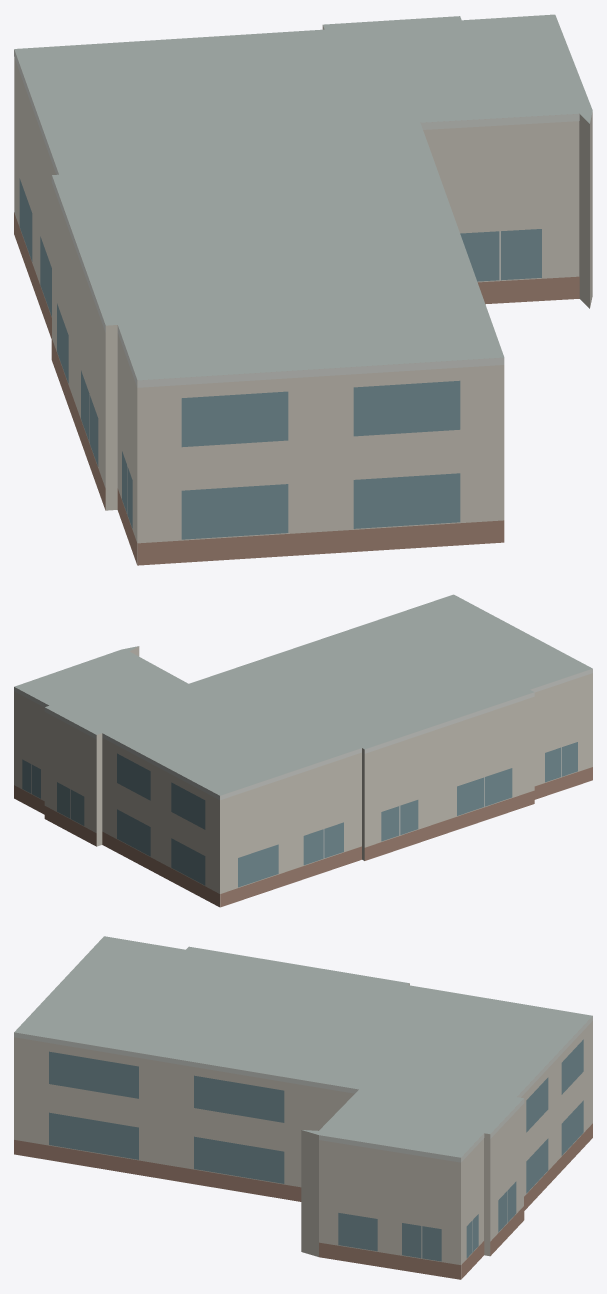
Rendered from survey-upis-33027756.glb.
3 renders of one model, top to bottom at view 1: azimuth 30°, elevation 25°; view 2: azimuth 150°, elevation 25°; view 3: azimuth 270°, elevation 25°, orthographic. The views are drawn at different scales.
Visible parts, largest first — view 1: survey-upis-33027756.tmp; view 2: survey-upis-33027756.tmp; view 3: survey-upis-33027756.tmp.
Boxes of the visible parts, bbox=[...] form: survey-upis-33027756.tmp: bbox=[14, 14, 592, 565]; survey-upis-33027756.tmp: bbox=[14, 594, 592, 907]; survey-upis-33027756.tmp: bbox=[14, 936, 592, 1279].
Size of the model in its own units: 23.76 by 6.1 by 26.23.
